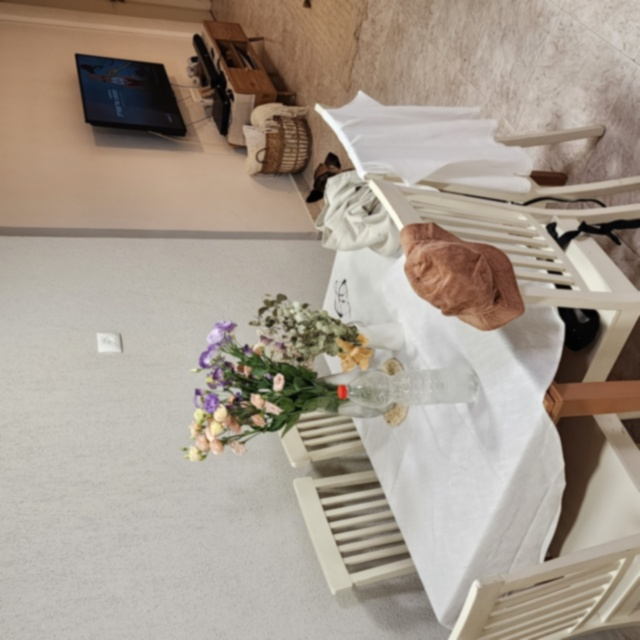glasses: (330, 276, 356, 319)
